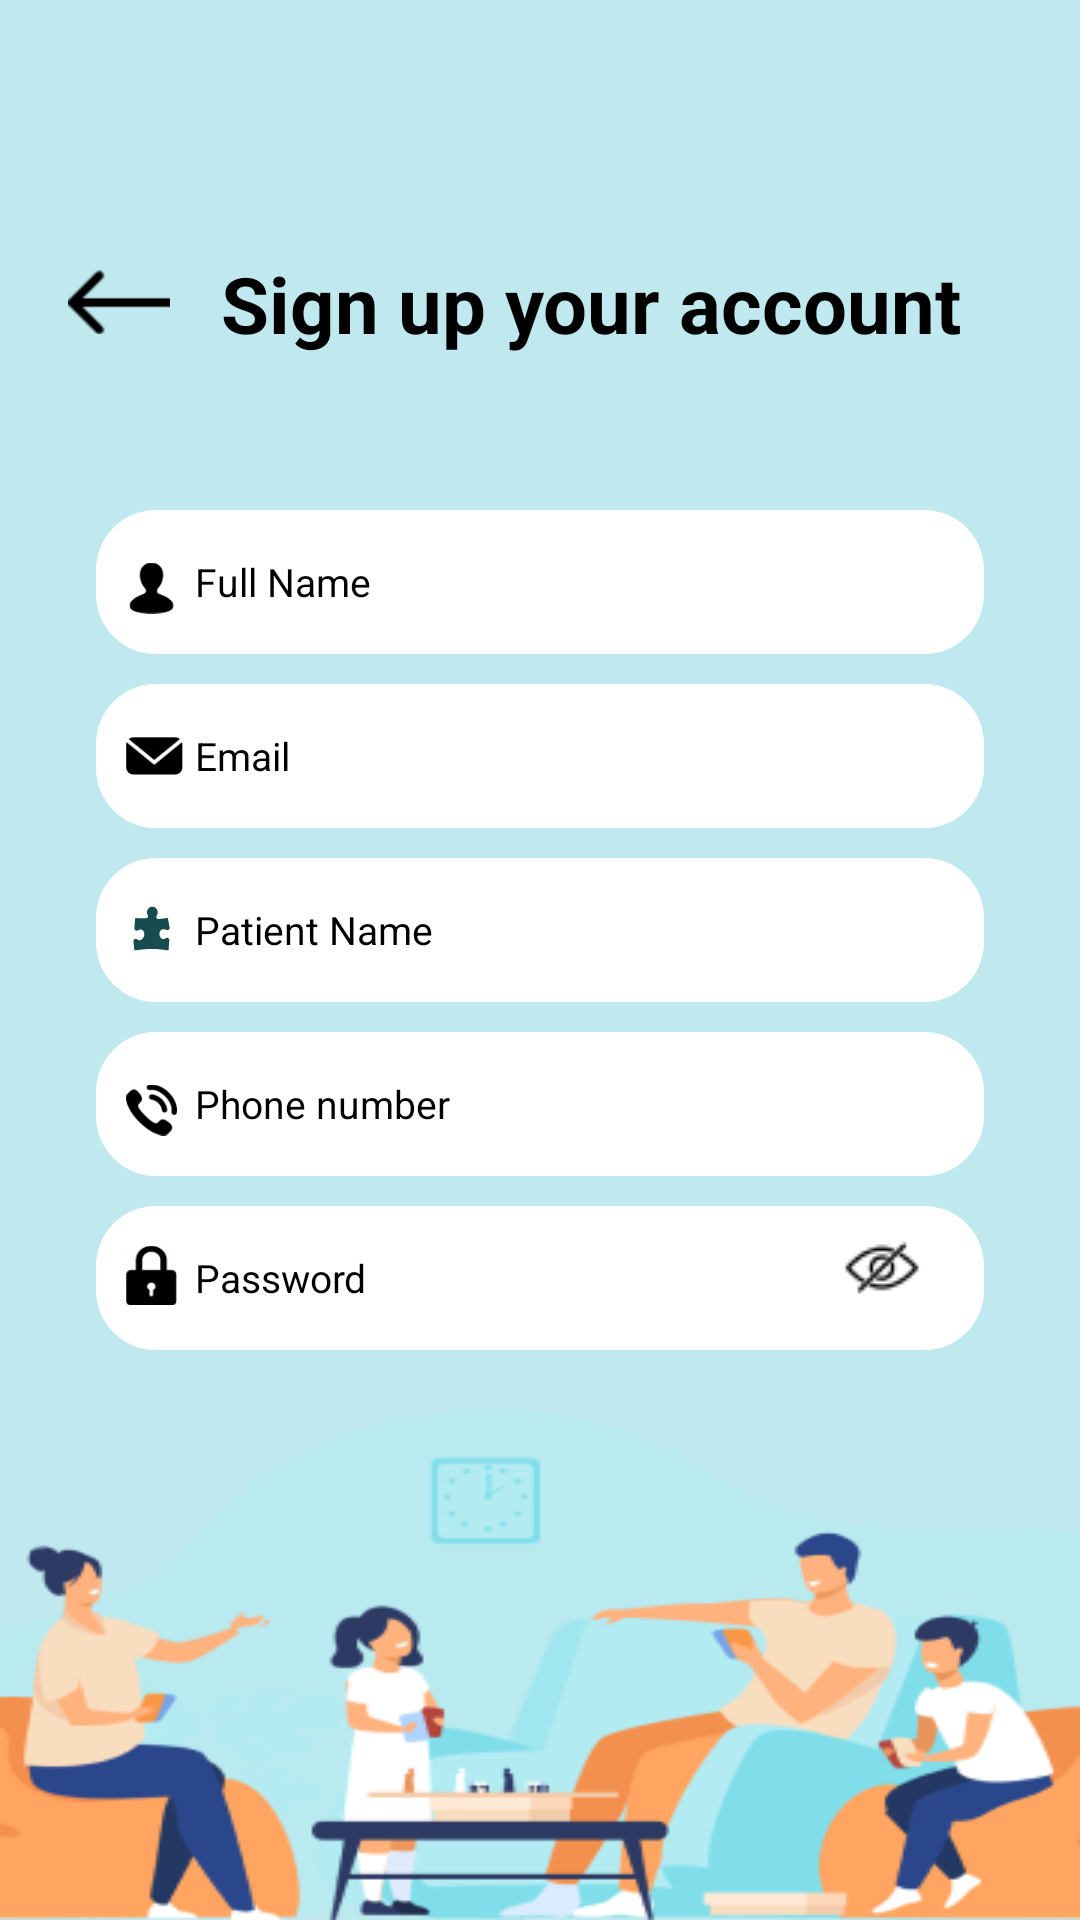

Point at icon controls on the screen. Image size 1080*1920, points as (x,y).
arrow: (119,302)
eye hidden: (882,1267)
lock: (151,1275)
user: (151,588)
